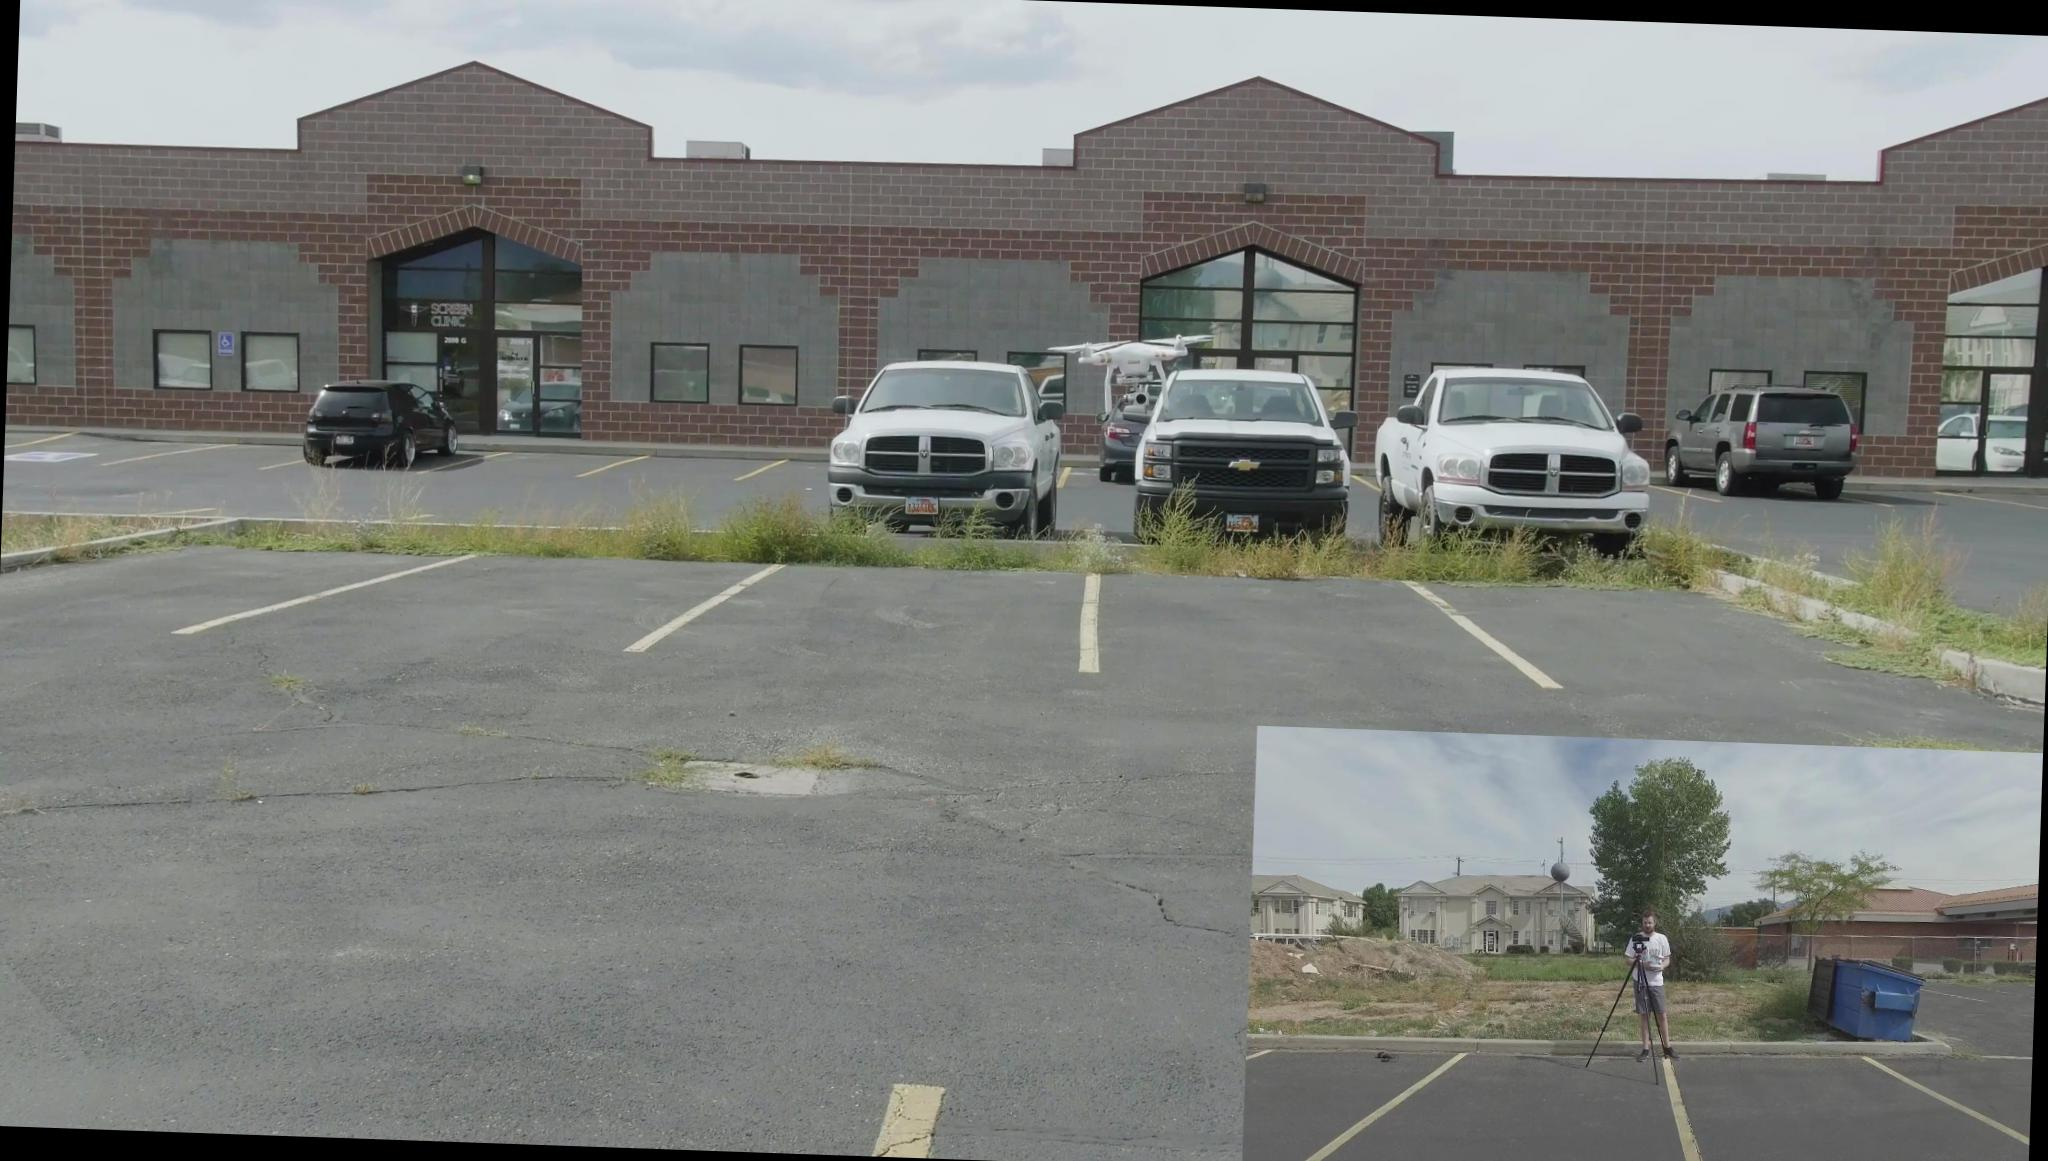drone: (1039, 319, 1215, 407)
